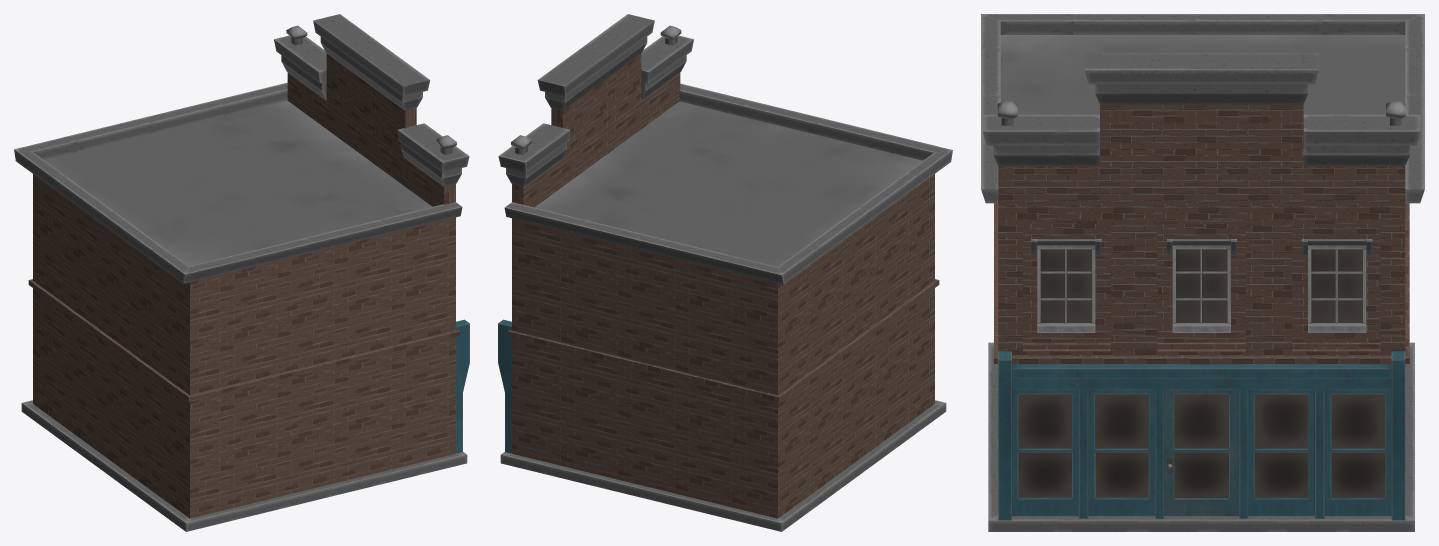
The model's file is BUILD_4_.fbx.
3 renders of one model, left to right at view 1: azimuth 30°, elevation 25°; view 2: azimuth 150°, elevation 25°; view 3: azimuth 270°, elevation 25°, orthographic. The views are drawn at different scales.
Visible parts, largest first — view 1: Cube.011, Cube.040, Cube.029, Cube.041, Cube.020, Cube.018, Cube.026, Cube.019; view 2: Cube.011, Cube.040, Cube.029, Cube.041, Cube.020, Cube.018, Cube.026, Cube.019; view 3: Cube.011, Plane.016, Cube.040, Plane.012, Cube.029, Plane.010, Cube.020, Cube.018, Cube.041, Cube.023, Cube.027, Cube.026 (+2 smaller).
Part boxes in pixels (box(x1,y1,x2,y2)): Cube.011: box(28, 54, 460, 518); Cube.040: box(44, 100, 432, 266); Cube.029: box(14, 82, 462, 283); Cube.041: box(21, 400, 467, 531); Cube.020: box(313, 14, 430, 110); Cube.018: box(274, 35, 469, 186); Cube.026: box(456, 319, 469, 453); Cube.019: box(286, 25, 456, 154); Cube.011: box(507, 54, 939, 518); Cube.040: box(534, 101, 922, 266); Cube.029: box(504, 83, 952, 284); Cube.041: box(500, 400, 946, 531); Cube.020: box(537, 14, 654, 110); Cube.018: box(498, 35, 693, 186); Cube.026: box(498, 319, 511, 453); Cube.019: box(511, 25, 681, 154); Cube.011: box(994, 104, 1409, 515); Plane.016: box(1018, 394, 1385, 497); Cube.040: box(1000, 35, 1405, 114); Plane.012: box(1031, 239, 1372, 332); Cube.029: box(981, 14, 1424, 203); Plane.010: box(1012, 389, 1391, 516); Cube.020: box(1084, 53, 1318, 104); Cube.018: box(983, 114, 1420, 165); Cube.041: box(988, 342, 1414, 531); Cube.023: box(1012, 364, 1391, 389); Cube.027: box(1078, 389, 1324, 518); Cube.026: box(998, 351, 1405, 520).
Size of the model in its own units: 785 by 917 by 798.
Materials: 2 (2 with a texture image).
